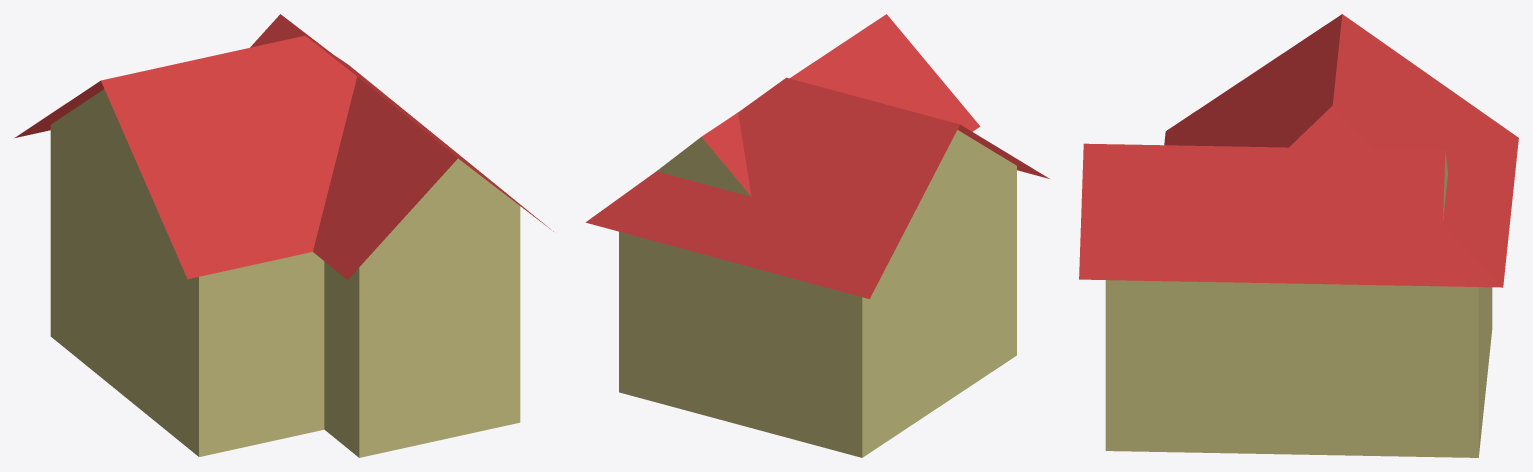
3 views of the same model, side by side, from view 1: azimuth 30°, elevation 25°; view 2: azimuth 150°, elevation 25°; view 3: azimuth 270°, elevation 25° (orthographic). The views are drawn at different scales.
Size of the model in its own units: 14.44 by 17.18 by 13.03.
